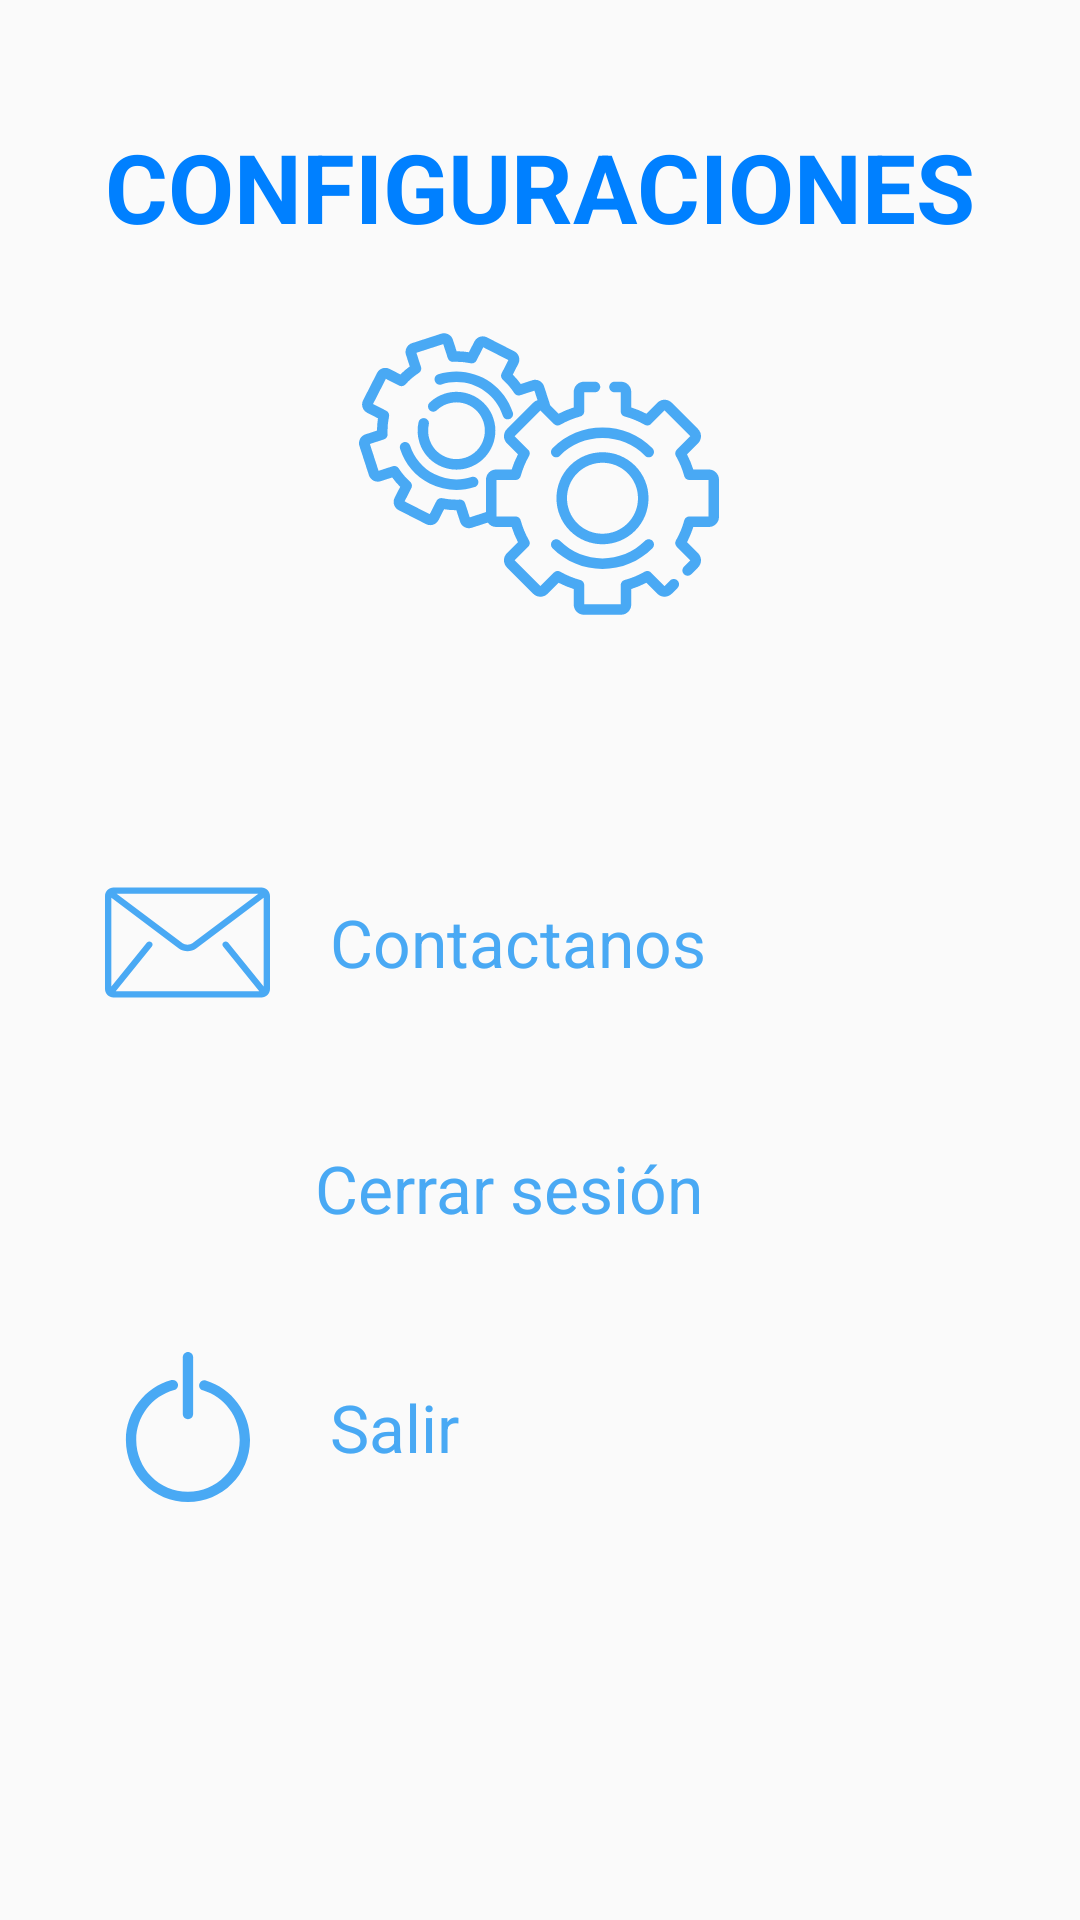

Screen size 1080*1920. Icon name, then its box in pixels as (x1, y1, x2, y2):
apagar: (126, 1352, 250, 1502)
correo: (105, 887, 270, 998)
